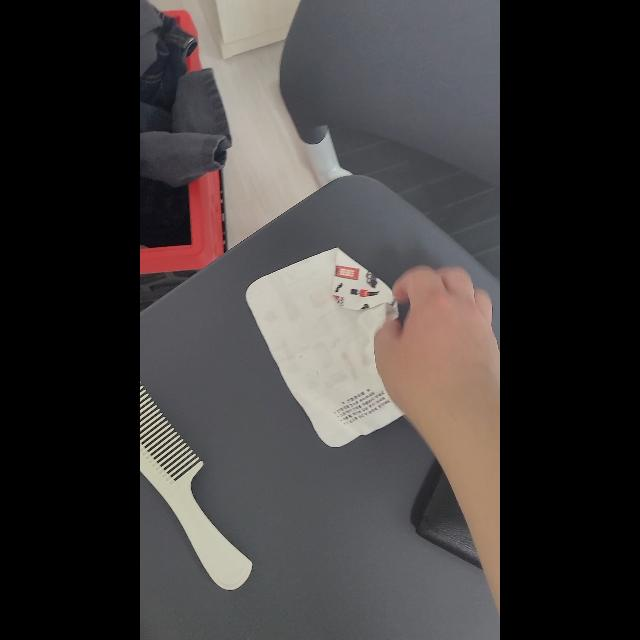COMB: (140, 382, 252, 590)
Glasses cleaning cloth: (247, 247, 406, 448)
WALLET: (411, 461, 484, 571)
